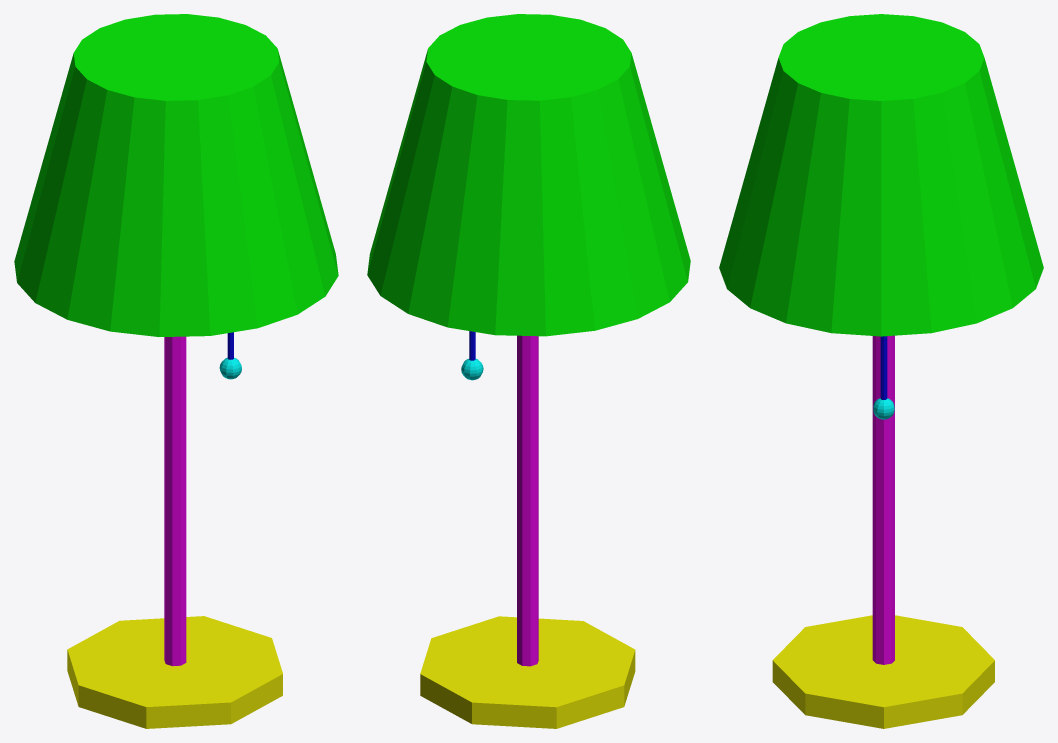
Rendered from StandLamp (1).fbx.
The picture shows the model from 3 angles, left to right: view 1: azimuth 30°, elevation 25°; view 2: azimuth 150°, elevation 25°; view 3: azimuth 270°, elevation 25°; orthographic projection.
Visible parts, largest first — view 1: StandingLamp; view 2: StandingLamp; view 3: StandingLamp.
Boxes of the visible parts, x1,y1,x2,y2 form: StandingLamp: (14, 14, 338, 728); StandingLamp: (367, 14, 690, 728); StandingLamp: (719, 14, 1043, 728).
Bounding box in the file's own units: 96.58 × 205 × 96.58.
